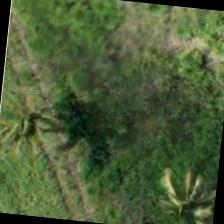Kelapa_Sawit: (0, 77, 76, 175), (131, 145, 220, 223)
